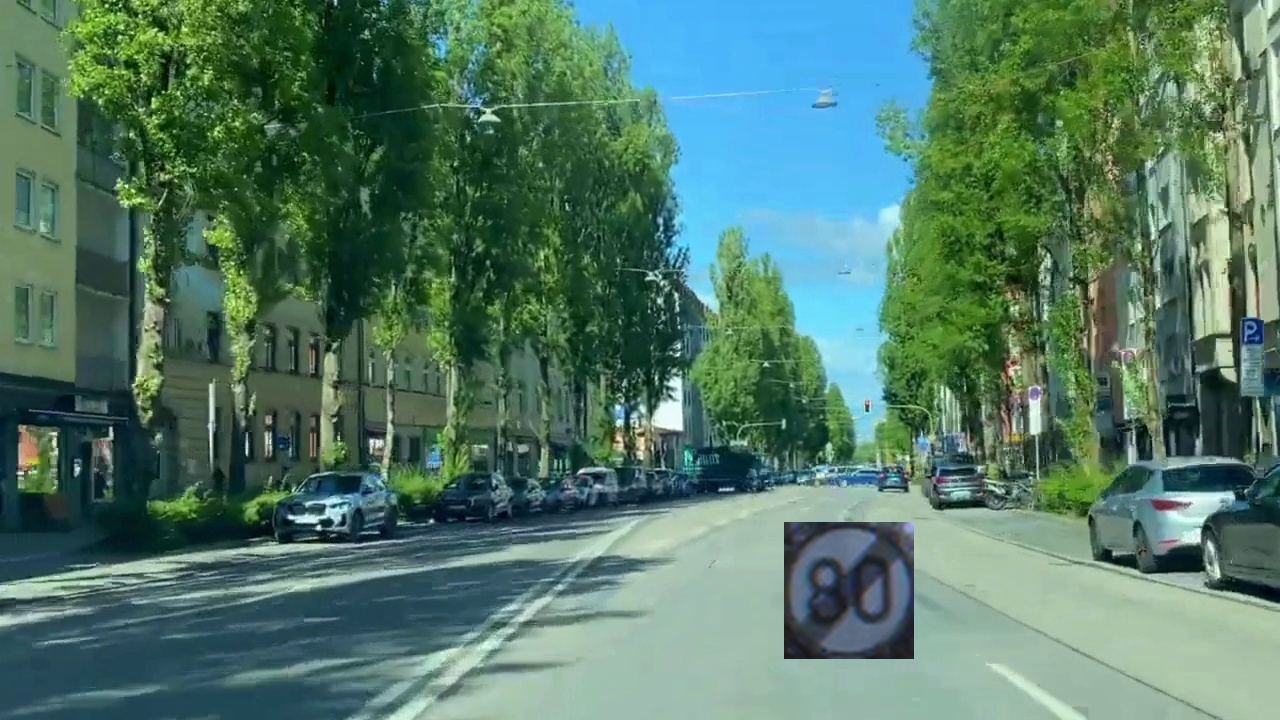End Speed 80: (784, 522, 914, 659)
